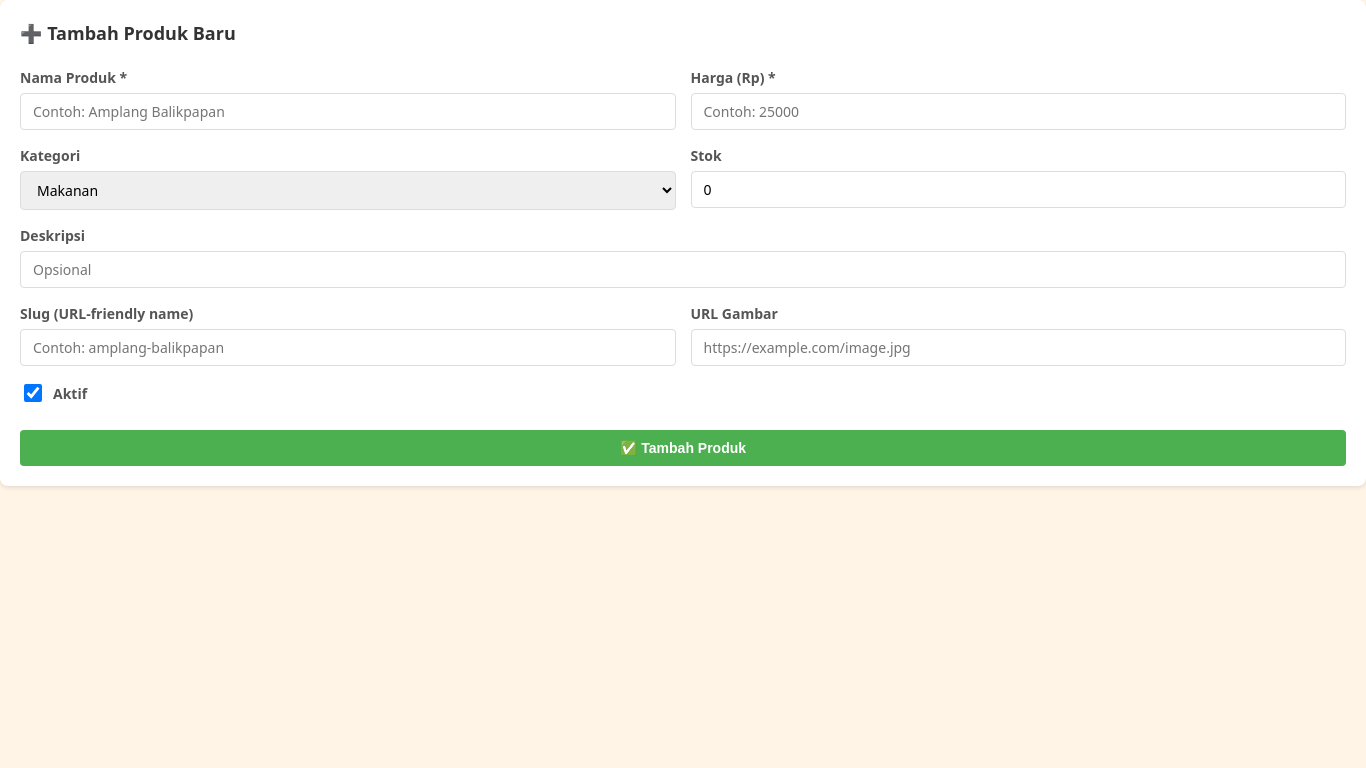
Scenario: ItemForm Component › validasi nama kosong muncul
The width and height of the screenshot is (1366, 768).
Click the button "✅ Tambah Produk" at (683, 448), box [20, 430, 1346, 466]
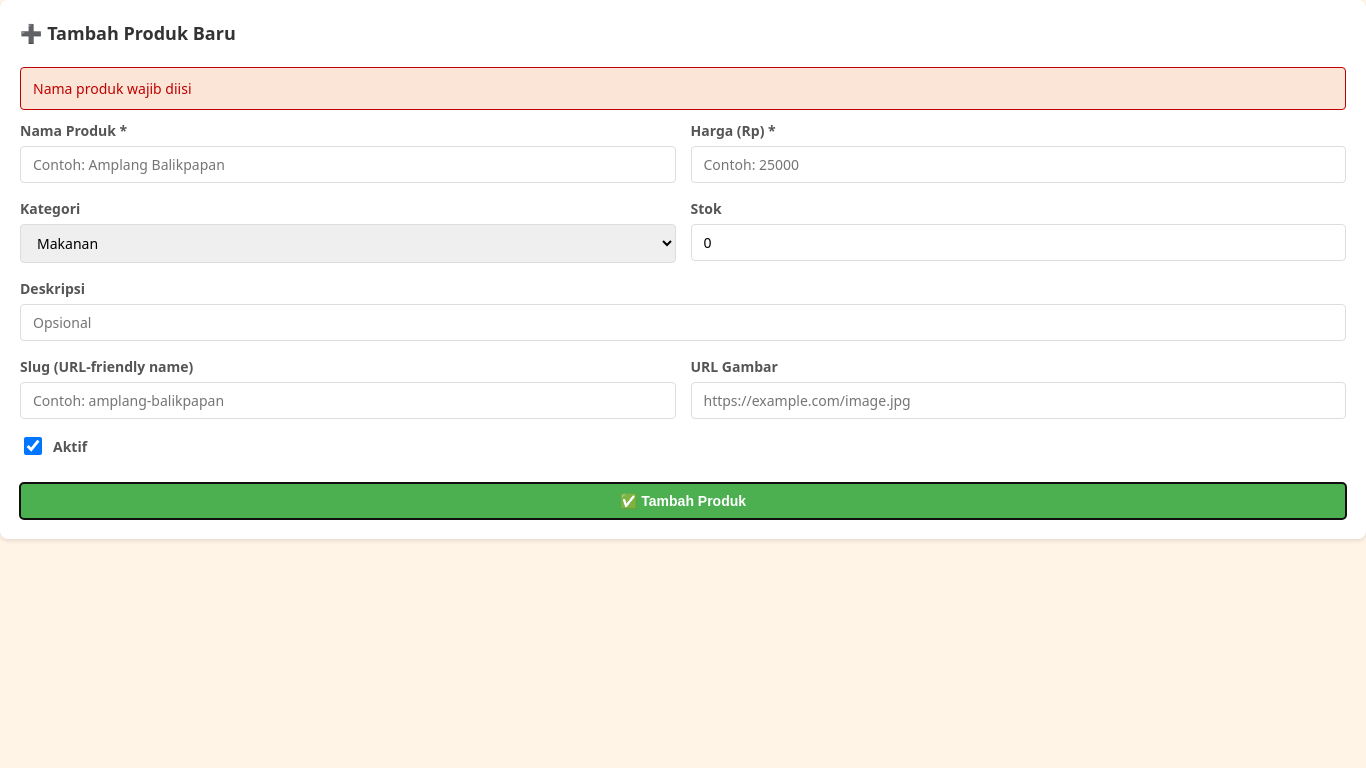
expect the text "Nama produk wajib diisi" is shown: met, box [20, 67, 1346, 110]
